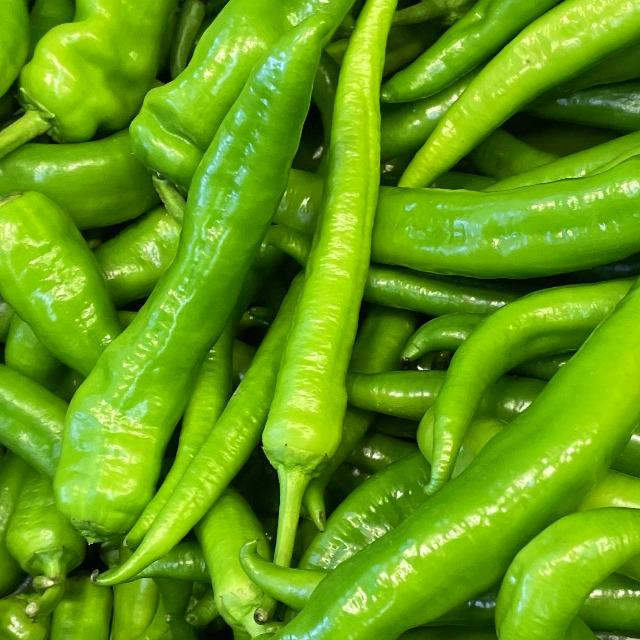chili_pepper: (50, 2, 338, 550)
